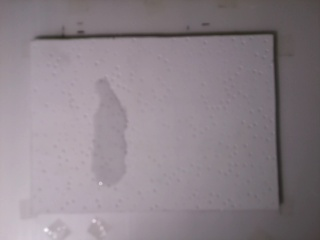Water_detected: (98, 104, 127, 181)
